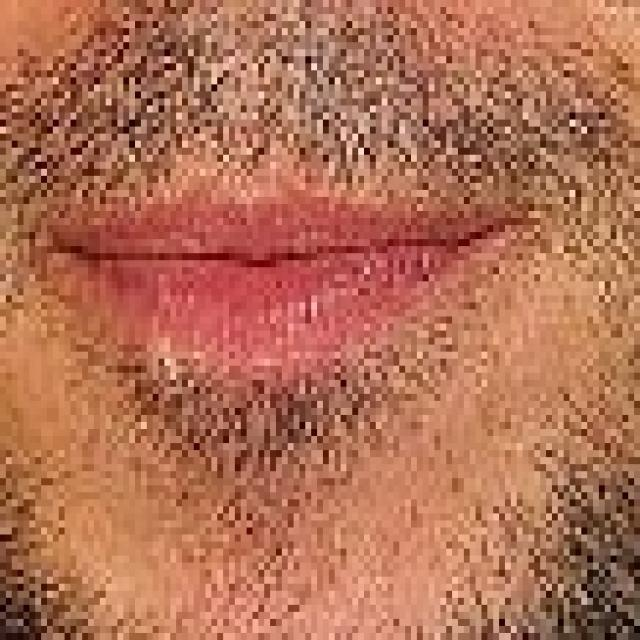closed-mouth: (23, 176, 540, 373)
